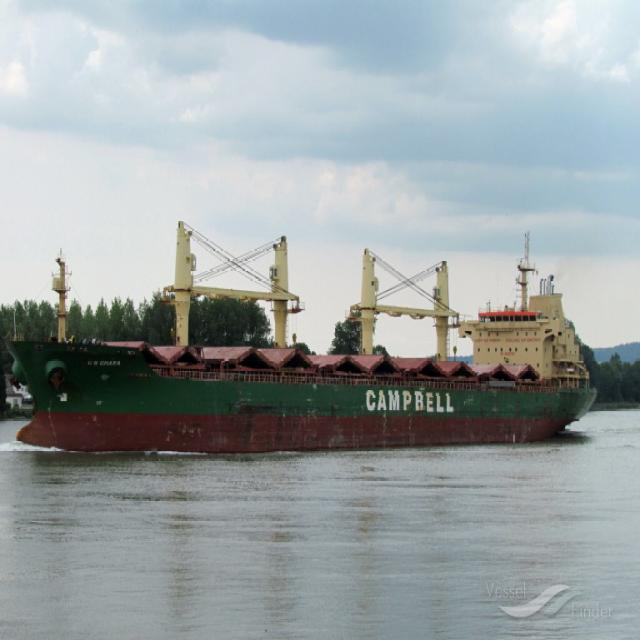OCR: (358, 382, 462, 422)
